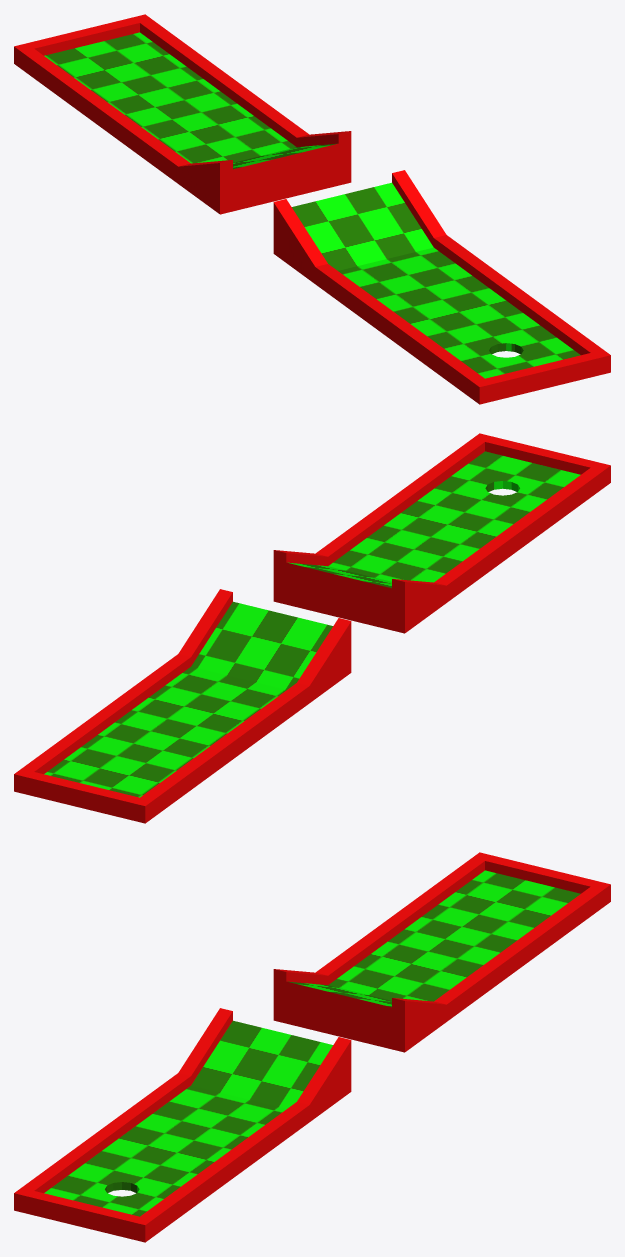
The model's file is SchanzenBahn.fbx.
The picture shows the model from 3 angles, top to bottom: view 1: azimuth 30°, elevation 25°; view 2: azimuth 150°, elevation 25°; view 3: azimuth 330°, elevation 25°; orthographic projection.
Parts seen in each view (by area): view 1: BahnF4_Track, BahnF4_Boundary; view 2: BahnF4_Track, BahnF4_Boundary; view 3: BahnF4_Track, BahnF4_Boundary.
Part boxes in pixels (bbox=[...]): BahnF4_Track: bbox=[44, 32, 580, 378]; BahnF4_Boundary: bbox=[14, 14, 610, 404]; BahnF4_Track: bbox=[44, 451, 580, 797]; BahnF4_Boundary: bbox=[14, 433, 610, 823]; BahnF4_Track: bbox=[44, 870, 580, 1216]; BahnF4_Boundary: bbox=[14, 852, 610, 1242].
Size of the model in its own units: 87 by 32.71 by 534.
